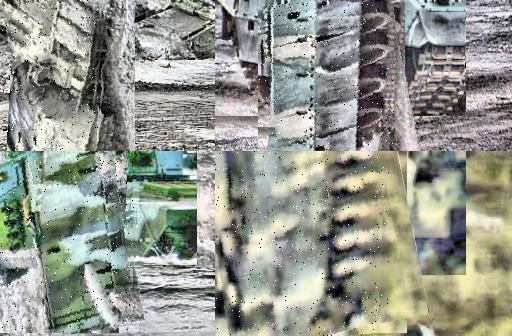tanks: (216, 152, 380, 336), (1, 152, 135, 334), (260, 1, 394, 152), (2, 1, 99, 152)
